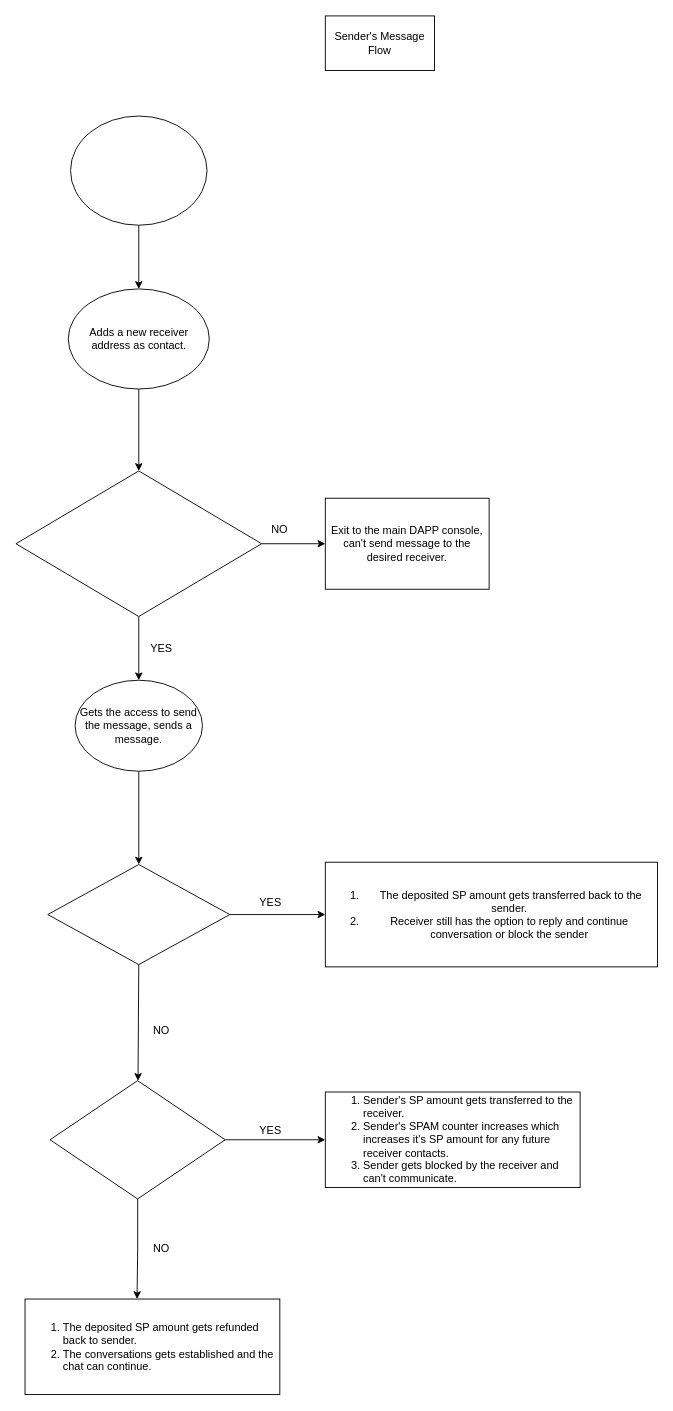
The diagram is 673 pixels wide and 1411 high, and some of its shapes have lost their labels. Each missing label, with the centre of its shape:
"Gets a prompt to deposit SP amount to the contract. Deposited ?" belongs at pixel 138 543.
"No response from receiver for more than 24 hours ?" belongs at pixel 138 914.
"Receiver on receiving the messages declares it spam ?" belongs at pixel 137 1139.
"Sender comes to DAPP connects with the wallet" belongs at pixel 138 170.
